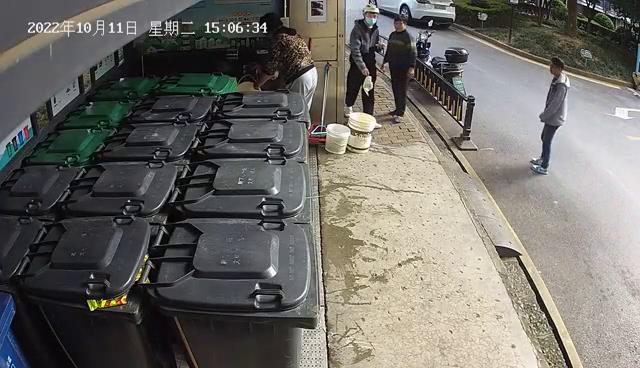person: (249, 10, 322, 121), (526, 53, 574, 179), (341, 2, 388, 120), (378, 11, 421, 126)
